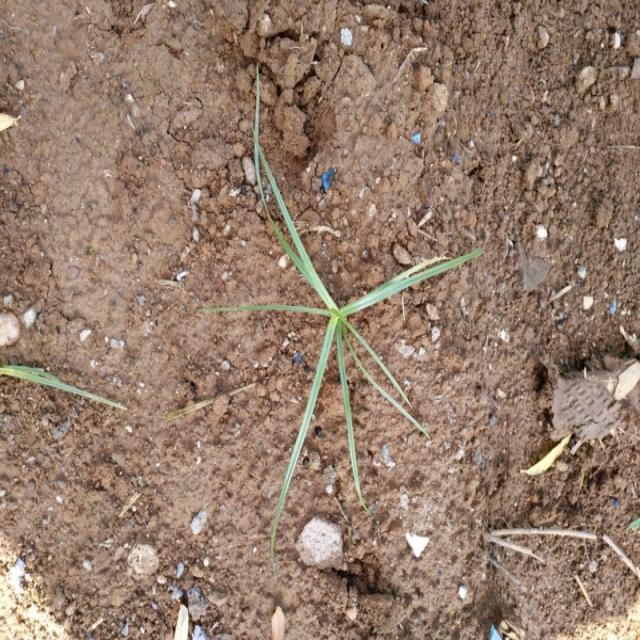sedge: (188, 177, 478, 502)
